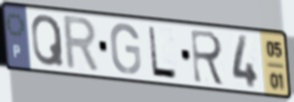4: (231, 33, 260, 91)
G: (108, 21, 143, 77)
L: (146, 24, 180, 82)
Q: (30, 13, 66, 69)
R: (62, 13, 102, 76), (189, 27, 227, 88)
